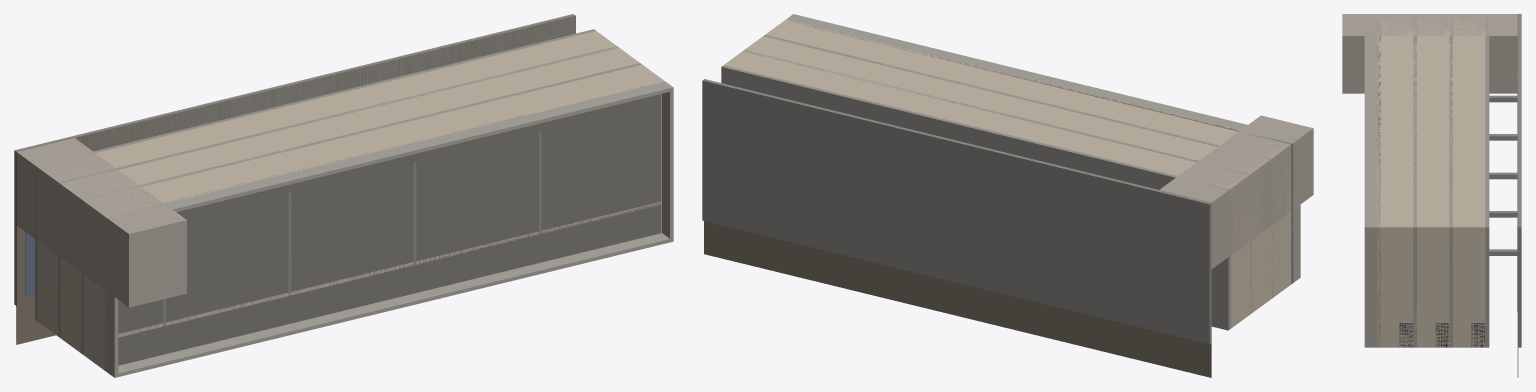
The picture shows the model from 3 angles, left to right: view 1: azimuth 30°, elevation 25°; view 2: azimuth 150°, elevation 25°; view 3: azimuth 270°, elevation 25°; orthographic projection. The views are drawn at different scales.
Visible parts, largest first — view 1: ROOF_SLAB, F3_WALL_N, F2_WALL_N, F1_WALL_N, BASE_SLAB, SITE_PLOT, ROOF_CORE, ROOF_PARAPET_S, ROOF_PARAPET_N, F3_CORE, F2_CORE, F1_CORE (+12 smaller); view 2: BASE_SLAB, SITE_PLOT, F1_SLAB, F3_WALL_N, F1_WALL_N, F2_WALL_N, ROOF_PARAPET_N, F2_CORE, F1_CORE, F1_WALL_W, F3_CORE, ROOF_CORE (+7 smaller); view 3: F3_WALL_N, F2_WALL_N, F1_WALL_N, F3_WALL_E, F2_WALL_E, F1_WALL_E, ROOF_PARAPET_N, BASE_CORE, ROOF_CORE, ROOF_PARAPET_E, F1_SLAB, BASE_SLAB (+12 smaller).
Part boxes in pixels (x1=…): ROOF_SLAB: x1=104, y1=84, x2=661, y2=370; F3_WALL_N: x1=85, y1=65, x2=664, y2=220; F2_WALL_N: x1=61, y1=48, x2=638, y2=201; F1_WALL_N: x1=38, y1=31, x2=615, y2=185; BASE_SLAB: x1=14, y1=14, x2=575, y2=305; SITE_PLOT: x1=16, y1=15, x2=575, y2=344; ROOF_CORE: x1=106, y1=204, x2=186, y2=307; ROOF_PARAPET_S: x1=106, y1=233, x2=673, y2=377; ROOF_PARAPET_N: x1=106, y1=82, x2=673, y2=225; F3_CORE: x1=83, y1=187, x2=164, y2=290; F2_CORE: x1=60, y1=170, x2=141, y2=273; F1_CORE: x1=37, y1=153, x2=117, y2=257; BASE_SLAB: x1=702, y1=79, x2=1211, y2=344; SITE_PLOT: x1=704, y1=85, x2=1211, y2=377; F1_SLAB: x1=721, y1=65, x2=1230, y2=330; F3_WALL_N: x1=768, y1=19, x2=1290, y2=160; F1_WALL_N: x1=724, y1=50, x2=1251, y2=190; F2_WALL_N: x1=746, y1=36, x2=1270, y2=175; ROOF_PARAPET_N: x1=790, y1=14, x2=1299, y2=142; F2_CORE: x1=1199, y1=145, x2=1272, y2=239; F1_CORE: x1=1178, y1=161, x2=1251, y2=255; F1_WALL_W: x1=1228, y1=174, x2=1251, y2=328; F3_CORE: x1=1220, y1=130, x2=1293, y2=224; ROOF_CORE: x1=1241, y1=115, x2=1313, y2=209; F3_WALL_N: x1=1377, y1=15, x2=1413, y2=230; F2_WALL_N: x1=1413, y1=14, x2=1449, y2=230; F1_WALL_N: x1=1449, y1=15, x2=1485, y2=230; F3_WALL_E: x1=1377, y1=225, x2=1413, y2=347; F2_WALL_E: x1=1413, y1=225, x2=1449, y2=347; F1_WALL_E: x1=1449, y1=225, x2=1485, y2=347; ROOF_PARAPET_N: x1=1364, y1=15, x2=1377, y2=229; BASE_CORE: x1=1485, y1=14, x2=1517, y2=93; ROOF_CORE: x1=1342, y1=14, x2=1377, y2=93; ROOF_PARAPET_E: x1=1364, y1=226, x2=1377, y2=347; F1_SLAB: x1=1485, y1=14, x2=1489, y2=347; BASE_SLAB: x1=1517, y1=14, x2=1521, y2=347.
Size of the model in its own units: 40.57 by 13.37 by 14.4.
